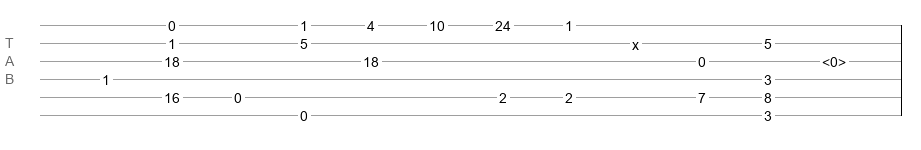0: (168, 18, 176, 28), (234, 90, 242, 100), (300, 108, 308, 118), (698, 54, 706, 64)
1: (102, 72, 110, 82), (168, 36, 176, 46), (300, 18, 308, 28), (565, 18, 573, 28)
10: (429, 18, 445, 28)
16: (164, 90, 180, 100)
18: (164, 54, 180, 64), (363, 54, 379, 64)
2: (499, 90, 507, 100), (565, 90, 573, 100)
24: (495, 18, 511, 28)
3: (764, 72, 772, 82), (764, 108, 772, 118)
4: (367, 18, 375, 28)
5: (300, 36, 308, 46), (764, 36, 772, 46)
7: (698, 90, 706, 100)
8: (764, 90, 772, 100)
harmonic: (822, 54, 846, 64)
x: (632, 37, 639, 45)
